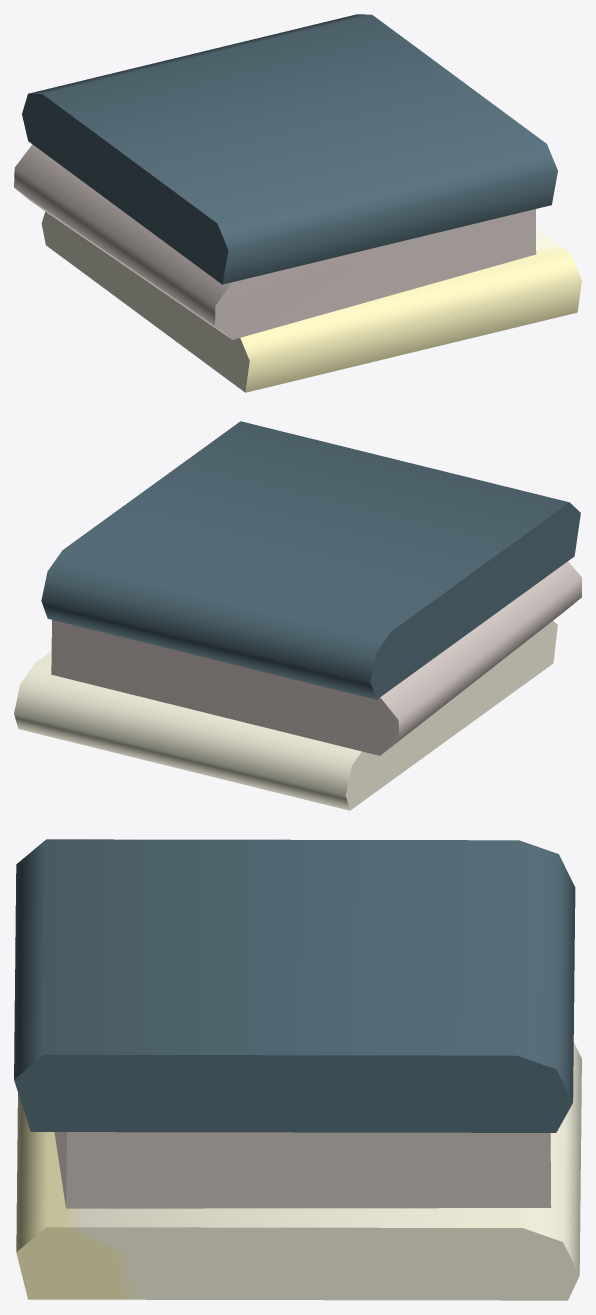
The model's file is shop_048.fbx.
3 views of the same model, one above another, from view 1: azimuth 30°, elevation 25°; view 2: azimuth 150°, elevation 25°; view 3: azimuth 270°, elevation 25° (orthographic). The views are drawn at different scales.
Parts seen in each view (by area): view 1: shop_048; view 2: shop_048; view 3: shop_048.
Boxes of the visible parts, x1,y1,x2,y2 form: shop_048: [14, 14, 581, 392]; shop_048: [14, 421, 581, 810]; shop_048: [14, 839, 581, 1300].
Size of the model in its own units: 41.03 by 40.43 by 17.96.
